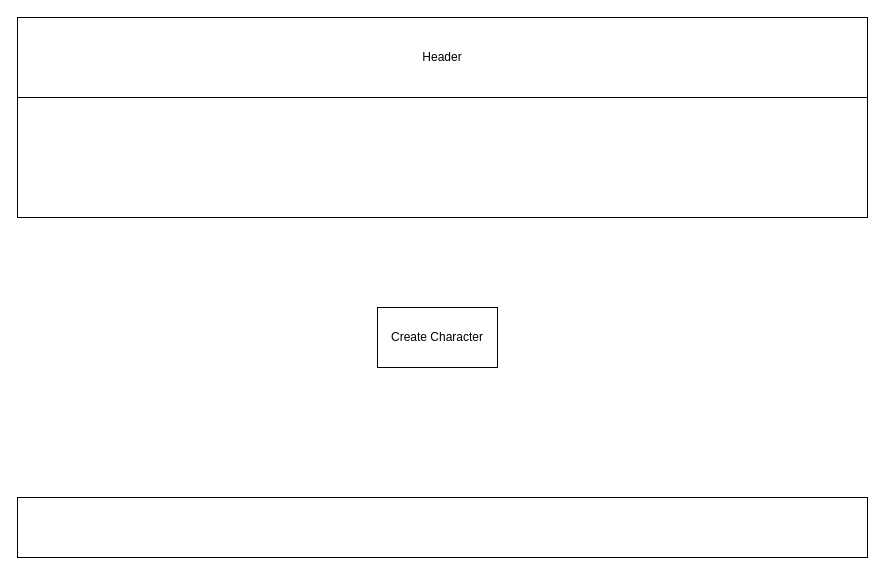
This 885x575 diagram has some shape labels left out. The shapes that lost their labels are listed below. From the top down, each one's centre as x and y in pixels, then its label:
At pixel 442 157: "Banner/Hero".
At pixel 442 527: "Footer".
